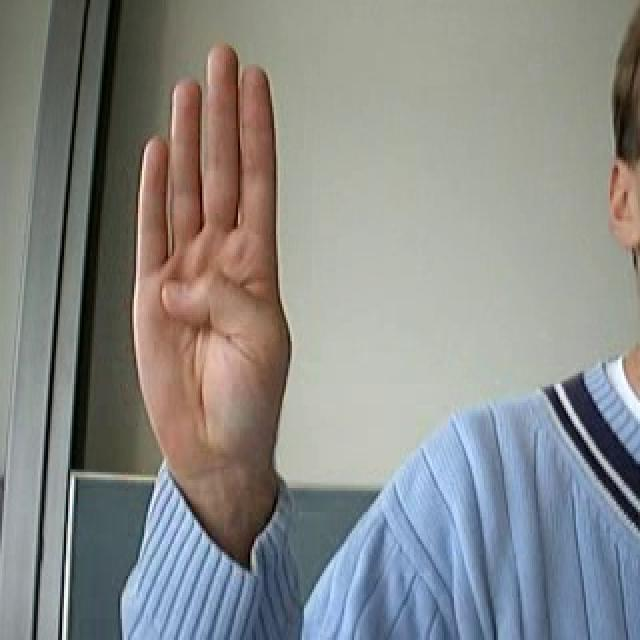B: (127, 35, 298, 478)
